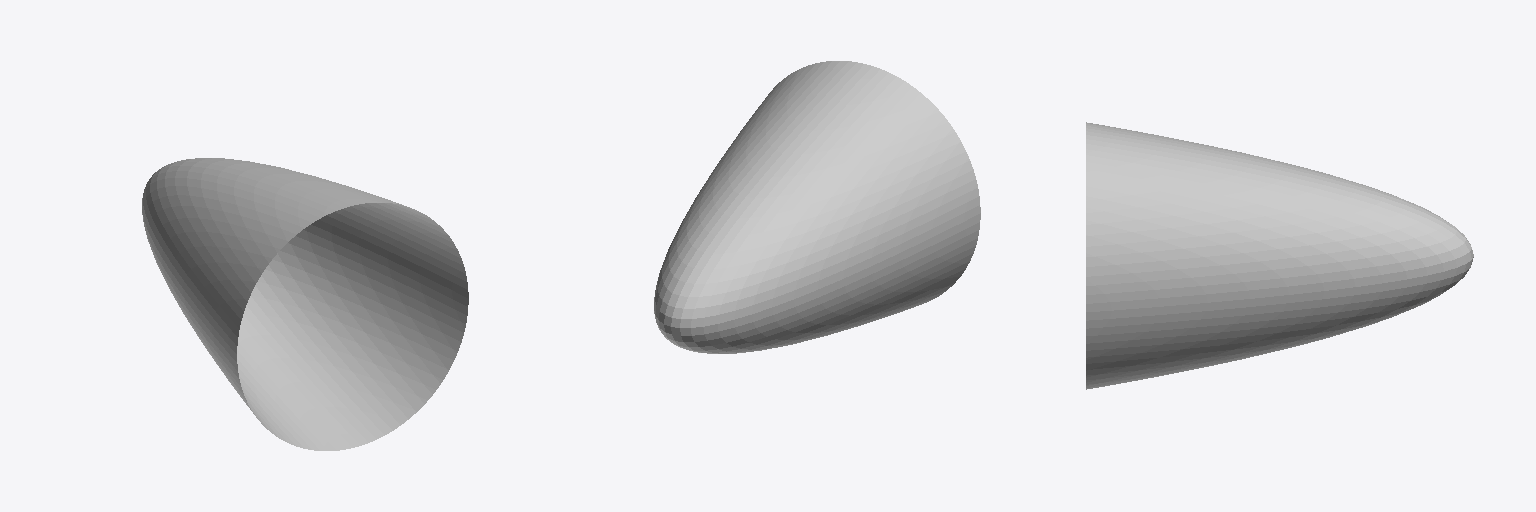
Rendered from paraboloid.obj.
The picture shows the model from 3 angles: view 1: azimuth 30°, elevation 25°; view 2: azimuth 150°, elevation 25°; view 3: azimuth 270°, elevation 25°; orthographic projection.
Size of the model in its own units: 5.79 by 5.79 by 8.4.